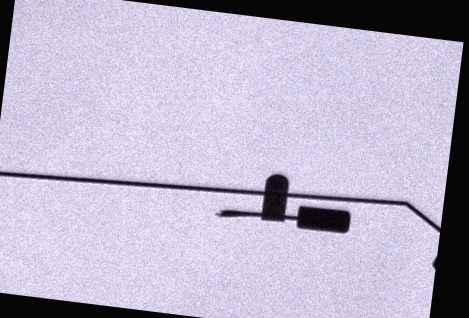damper_defect: (210, 167, 353, 238)
